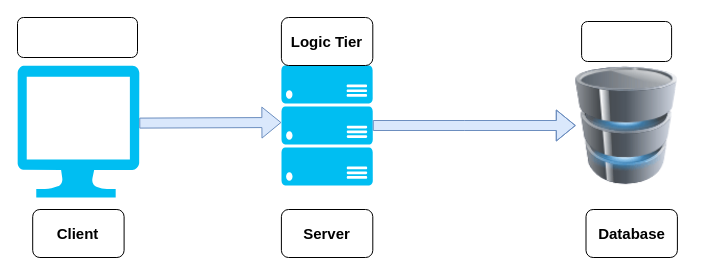
The diagram is 705 pixels wide and 275 high, and some of its shapes have lost their labels. The shapes that lost their labels are listed below. From the top down, each one's box as (x1, y1, x2, y2) in pixels, then its label:
(16, 16, 138, 58): Presentation Tier
(581, 20, 672, 62): Data Tier
